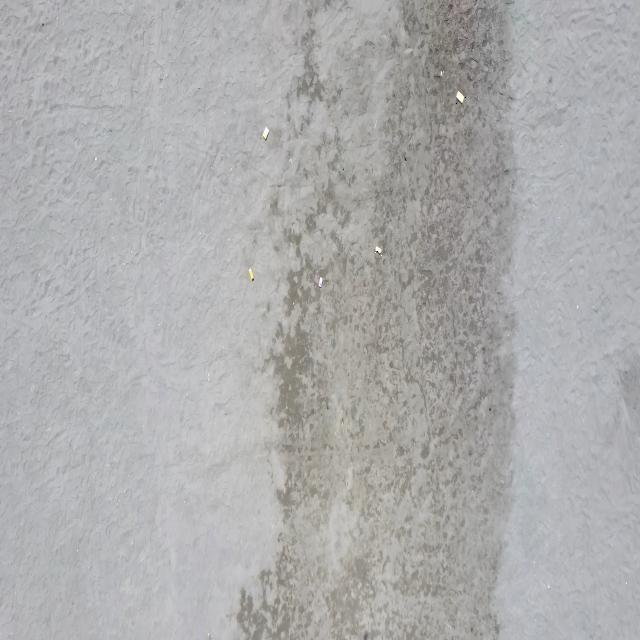retort-pouch: (456, 90, 466, 104), (262, 126, 270, 141), (374, 243, 383, 256), (248, 266, 255, 282), (318, 276, 324, 288)
